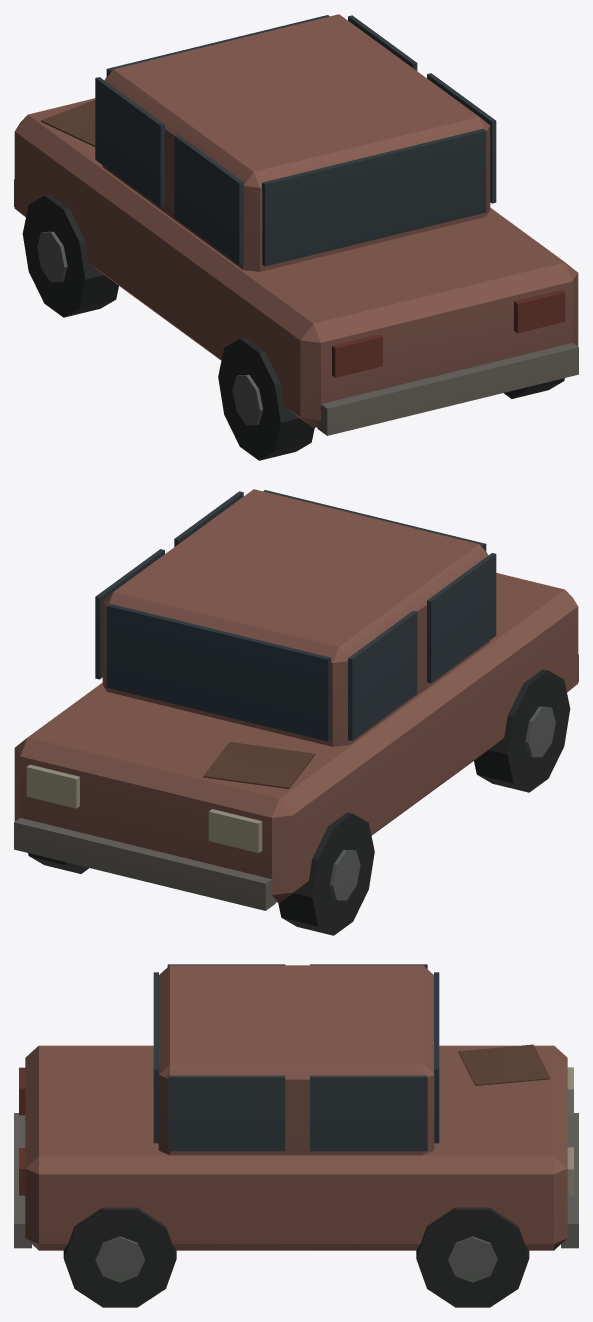
File: AC_CarRust.glb
3 views of the same model, one above another, from view 1: azimuth 30°, elevation 25°; view 2: azimuth 150°, elevation 25°; view 3: azimuth 270°, elevation 25° (orthographic). The views are drawn at different scales.
Parts seen in each view (by area): view 1: AC_CarRust__Body; view 2: AC_CarRust__Body; view 3: AC_CarRust__Body.
Part boxes in pixels (<box>): AC_CarRust__Body: <box>14,14,578,460</box>; AC_CarRust__Body: <box>14,489,578,935</box>; AC_CarRust__Body: <box>14,964,578,1307</box>.
Bounding box in the file's own units: 6.82 × 5.59 × 12.5.
